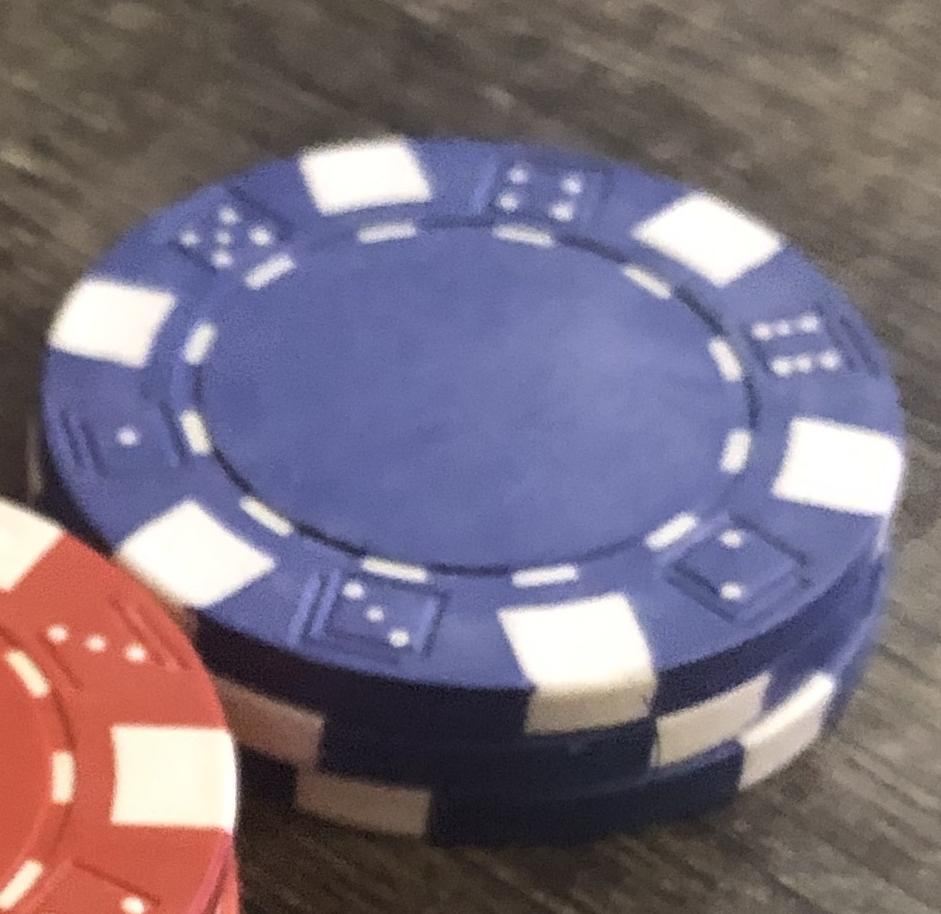Chip: (1, 1, 941, 914)
